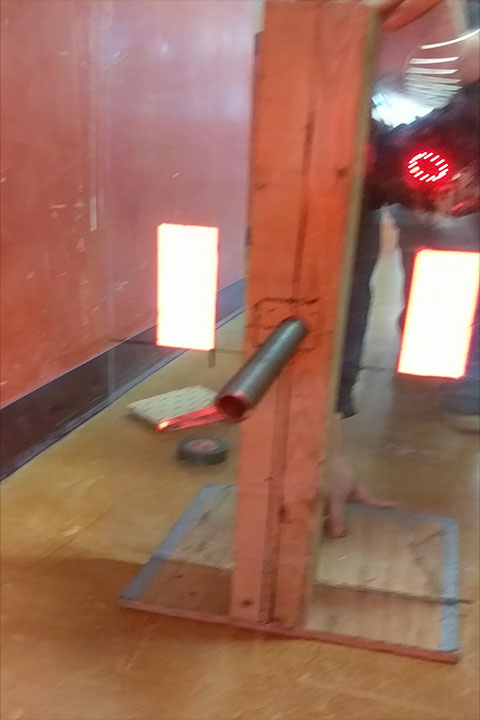gear: (396, 246, 480, 381), (156, 224, 217, 351)
